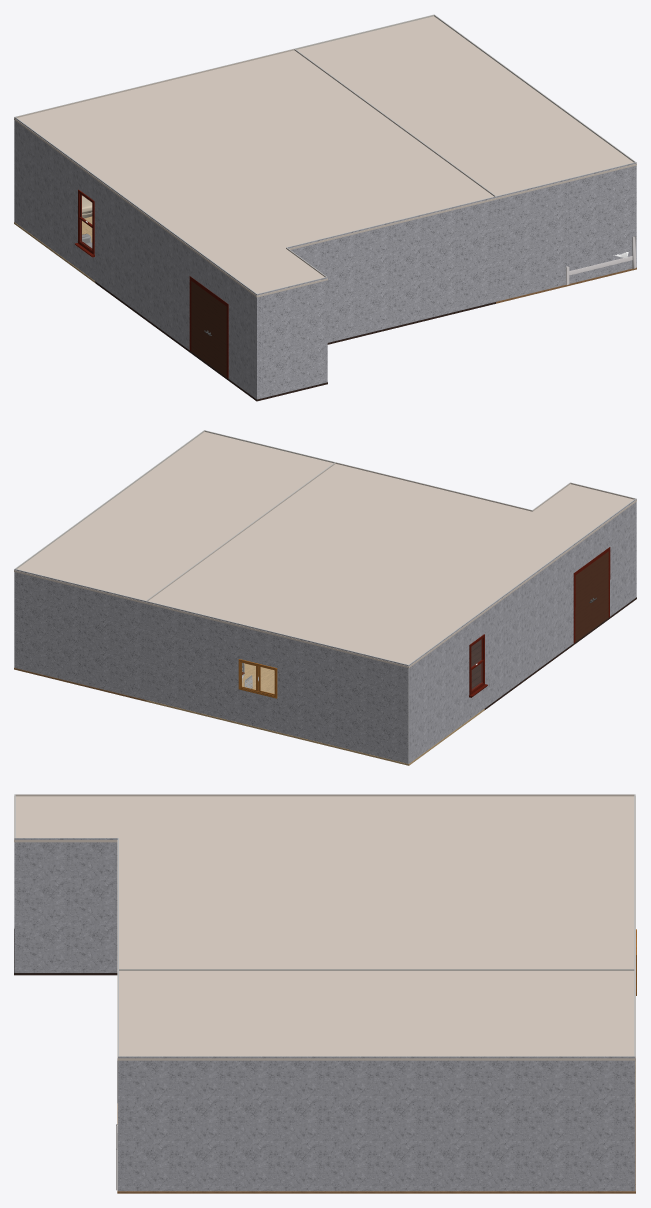
Rendered from ProcTHOR-Train-135.glb.
3 renders of one model, top to bottom at view 1: azimuth 30°, elevation 25°; view 2: azimuth 150°, elevation 25°; view 3: azimuth 270°, elevation 25°, orthographic. The views are drawn at different scales.
Visible parts, largest first — view 1: Ceiling#room|6|c, Ceiling#room|2|c, Ceiling#room|7|c, WallInside#wall|exterior|4.18|10.44|10.44|10.44, WallInside#wall|exterior|0.00|10.44|4.18|10.44, WallInside#wall|exterior|12.53|4.18|12.53|12.53, WallInside#wall|exterior|12.53|0.00|12.53|4.18, WallInside#wall|exterior|10.44|12.53|12.53|12.53, Doorway_Door_1b, Doorway_Door_1a, Floor#room|6|f, Doorway_Double_1 (+3 smaller); view 2: Ceiling#room|6|c, WallInside#wall|exterior|4.18|0.00|12.53|0.00, Ceiling#room|2|c, Ceiling#room|7|c, WallInside#wall|exterior|0.00|0.00|4.18|0.00, WallInside#wall|exterior|12.53|4.18|12.53|12.53, WallInside#wall|exterior|12.53|0.00|12.53|4.18, Floor#room|7|f, Doorway_Door_1b, Doorway_Door_1a, Floor#room|6|f, Window_Slider_48x36 (+2 smaller); view 3: WallInside#wall|exterior|0.00|0.00|0.00|10.44, Ceiling#room|6|c, Ceiling#room|2|c, Ceiling#room|7|c, WallInside#wall|exterior|10.44|10.44|10.44|12.53, Floor#room|2|f, WallInside#wall|6|12.53|4.18|12.53|12.53, WallInside#wall|2|4.18|4.18|4.18|10.44, WallInside#wall|7|12.53|0.00|12.53|4.18.
Boxes of the visible parts, bbox=[...] form: Ceiling#room|6|c: bbox=[95, 109, 495, 297]; Ceiling#room|2|c: bbox=[296, 16, 636, 199]; Ceiling#room|7|c: bbox=[14, 50, 374, 178]; WallInside#wall|exterior|4.18|10.44|10.44|10.44: bbox=[287, 196, 496, 342]; WallInside#wall|exterior|0.00|10.44|4.18|10.44: bbox=[496, 162, 636, 301]; WallInside#wall|exterior|12.53|4.18|12.53|12.53: bbox=[95, 176, 256, 399]; WallInside#wall|exterior|12.53|0.00|12.53|4.18: bbox=[14, 117, 95, 280]; WallInside#wall|exterior|10.44|12.53|12.53|12.53: bbox=[257, 277, 327, 399]; Doorway_Door_1b: bbox=[191, 281, 209, 364]; Doorway_Door_1a: bbox=[209, 294, 226, 377]; Floor#room|6|f: bbox=[95, 281, 495, 401]; Doorway_Double_1: bbox=[189, 276, 228, 378]; Ceiling#room|6|c: bbox=[222, 464, 636, 612]; WallInside#wall|exterior|4.18|0.00|12.53|0.00: bbox=[145, 601, 408, 763]; Ceiling#room|2|c: bbox=[14, 431, 333, 603]; Ceiling#room|7|c: bbox=[145, 547, 484, 667]; WallInside#wall|exterior|0.00|0.00|4.18|0.00: bbox=[14, 569, 146, 699]; WallInside#wall|exterior|12.53|4.18|12.53|12.53: bbox=[484, 499, 636, 707]; WallInside#wall|exterior|12.53|0.00|12.53|4.18: bbox=[409, 609, 484, 763]; Floor#room|7|f: bbox=[145, 663, 484, 765]; Doorway_Door_1b: bbox=[575, 564, 591, 641]; Doorway_Door_1a: bbox=[592, 551, 608, 629]; Floor#room|6|f: bbox=[471, 597, 636, 709]; Window_Slider_48x36: bbox=[238, 659, 277, 698]; WallInside#wall|exterior|0.00|0.00|0.00|10.44: bbox=[118, 1056, 635, 1191]; Ceiling#room|6|c: bbox=[14, 796, 429, 969]; Ceiling#room|2|c: bbox=[117, 970, 635, 1060]; Ceiling#room|7|c: bbox=[427, 796, 635, 969]; WallInside#wall|exterior|10.44|10.44|10.44|12.53: bbox=[14, 838, 118, 972]; Floor#room|2|f: bbox=[117, 1103, 635, 1193]; WallInside#wall|6|12.53|4.18|12.53|12.53: bbox=[15, 794, 428, 796]; WallInside#wall|2|4.18|4.18|4.18|10.44: bbox=[119, 969, 428, 970]; WallInside#wall|7|12.53|0.00|12.53|4.18: bbox=[428, 794, 634, 796].
Size of what is drawn, in the model's own units: 12.67 by 3.05 by 12.59.
Materials: 273 (116 with a texture image).
